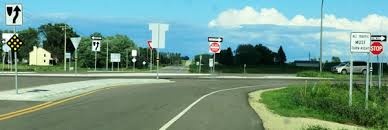doNotEnter: (208, 41, 218, 52)
keepRight: (3, 1, 25, 29), (91, 38, 100, 52)
oneWay: (205, 34, 224, 43), (372, 33, 387, 41)
rightLaneMustTurn: (350, 30, 372, 53)
stop: (372, 40, 385, 56)
